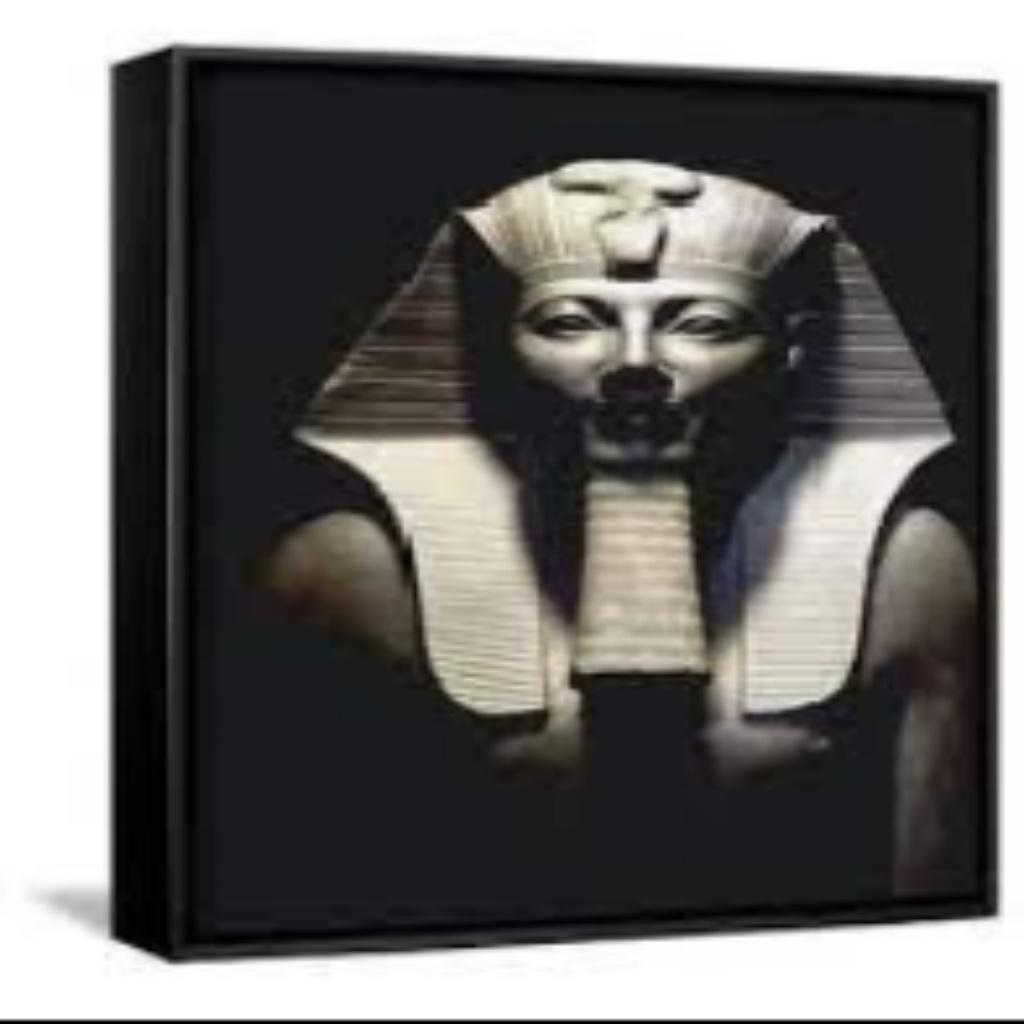King Thutmose III: (246, 152, 982, 904)
